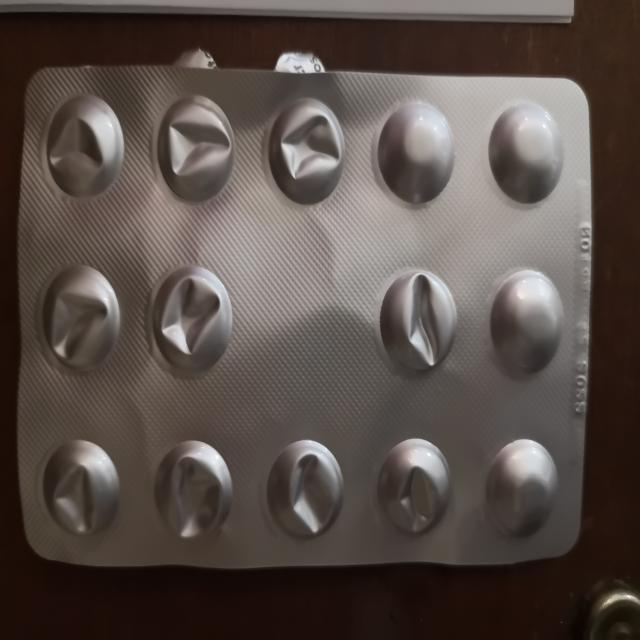Empty: (146, 253, 236, 377), (257, 430, 349, 546), (146, 433, 238, 548), (35, 259, 126, 375), (368, 427, 457, 544), (38, 428, 126, 546), (38, 85, 128, 199), (265, 93, 349, 212), (373, 264, 460, 378), (151, 96, 240, 202)
Pill: (372, 94, 460, 208), (485, 94, 567, 208), (486, 264, 563, 381), (482, 434, 562, 546)
